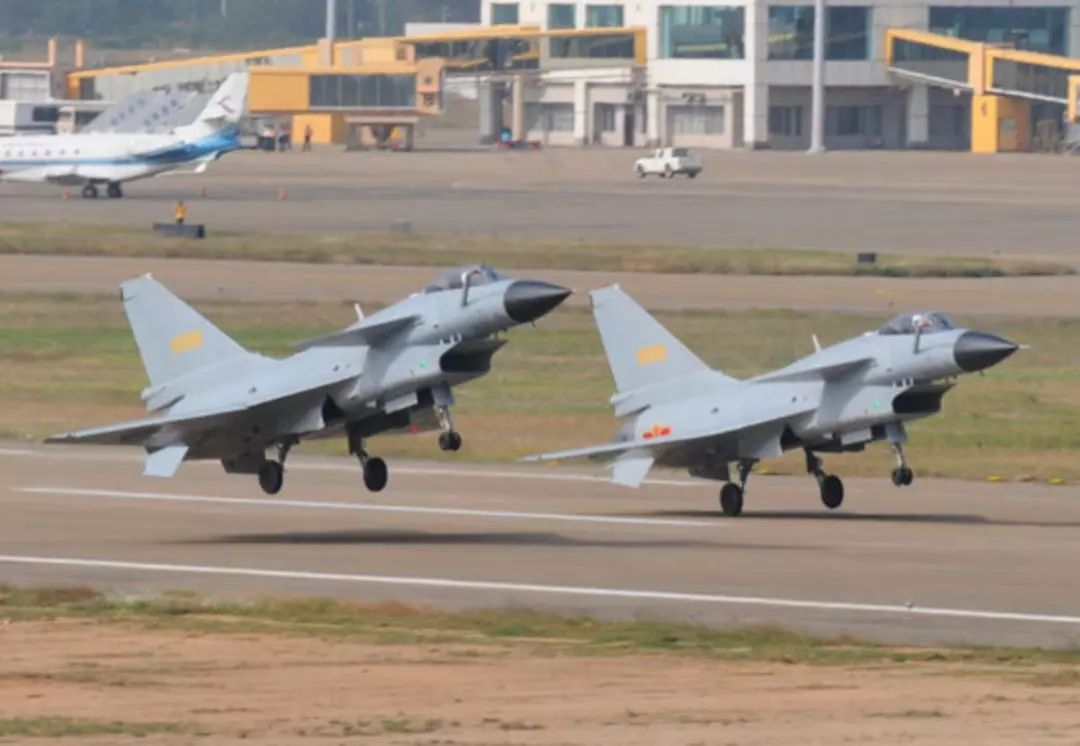airplane: (25, 256, 574, 502), (535, 276, 1042, 523)
